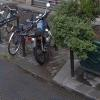Motorcycle: (21, 7, 60, 74)
